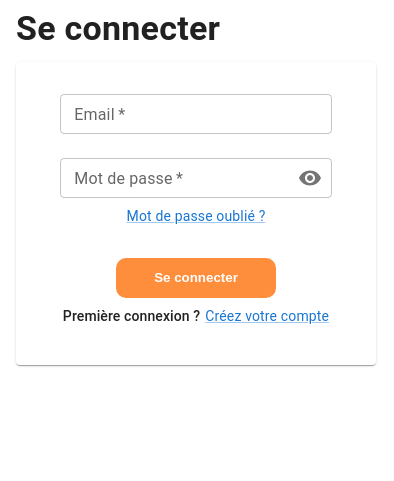
Test: SignIn test component & toast › should update email and password fields and show password alerts
The width and height of the screenshot is (394, 481).
In the field labelled "Email *": (196, 114) [60,94,332,134], type "test@example.com"
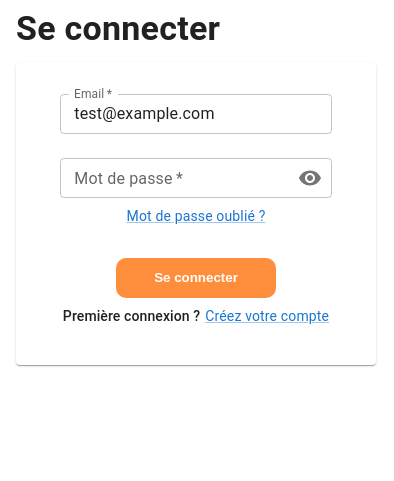
In the password field labelled "Mot de passe *": (171, 178) [60,158,282,198], type "password123"
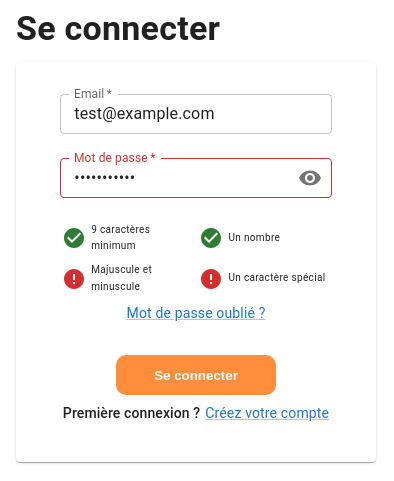
Expected: the text "9 caractères minimum" is shown, [62,224,150,252]
Expected: the text "Majuscule et minuscule" is shown, [62,264,152,292]
Expected: the text "Un nombre" is shown, [200,226,280,250]
